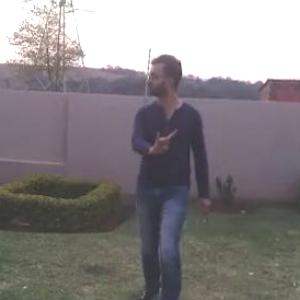takeoff-hand: (150, 118, 178, 156)
